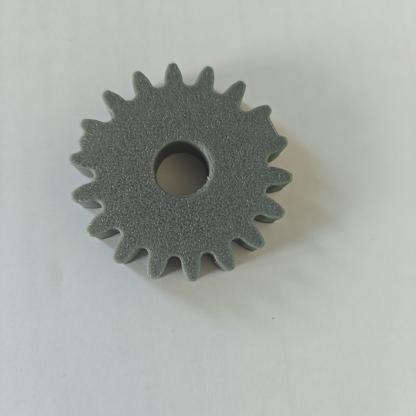defect: (231, 93, 309, 170), (52, 113, 124, 194)
gear: (35, 57, 330, 290)
